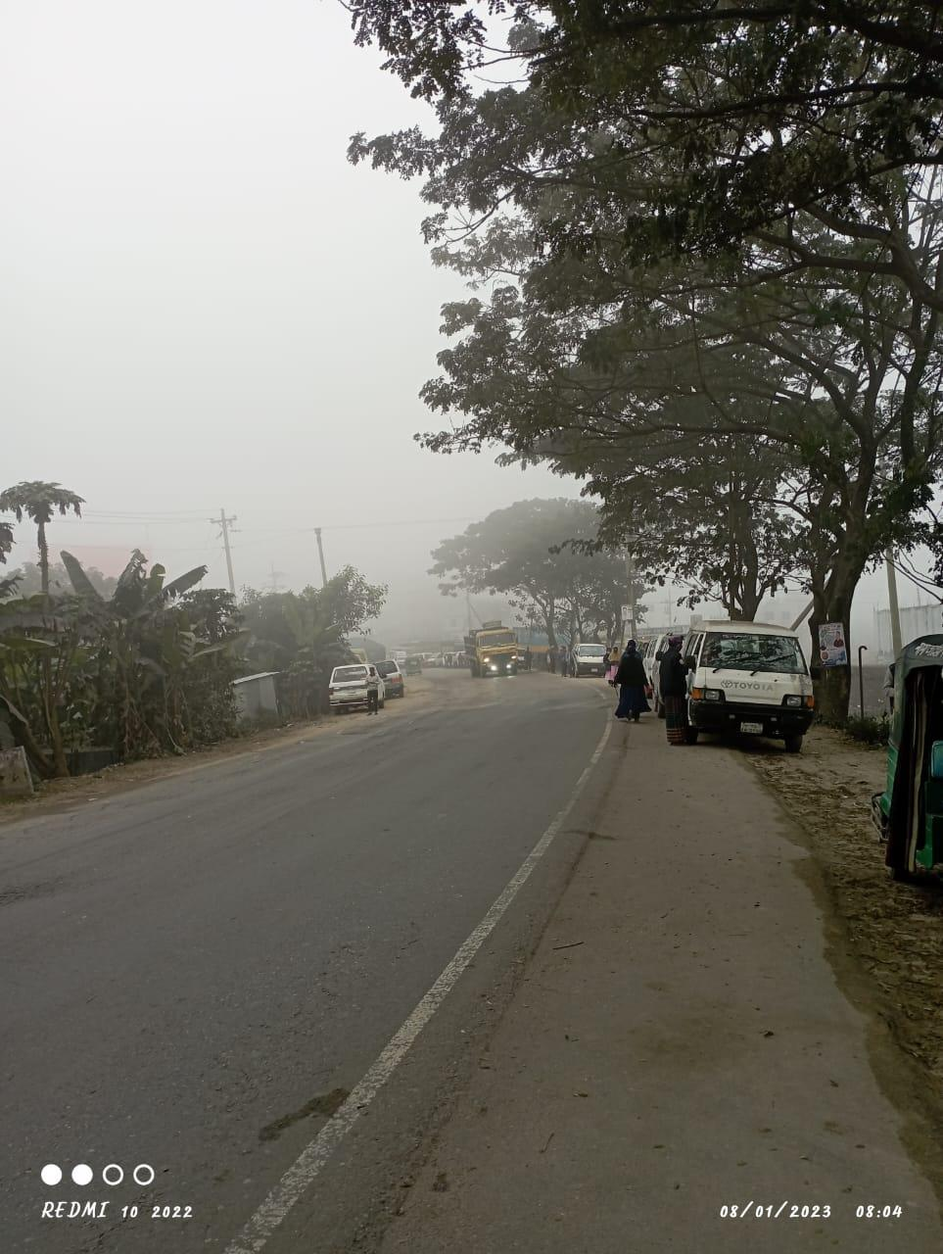Car: (679, 610, 823, 753), (319, 655, 388, 717), (562, 642, 615, 682)
Truck: (466, 619, 526, 686)
